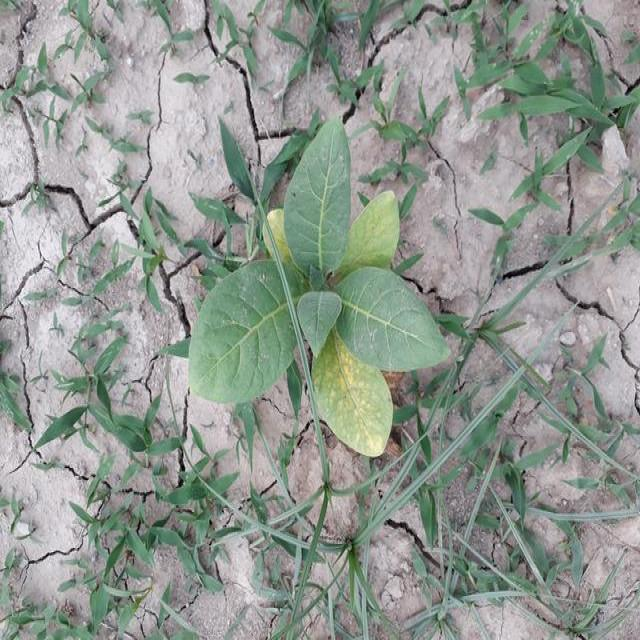crop: (188, 112, 451, 461)
